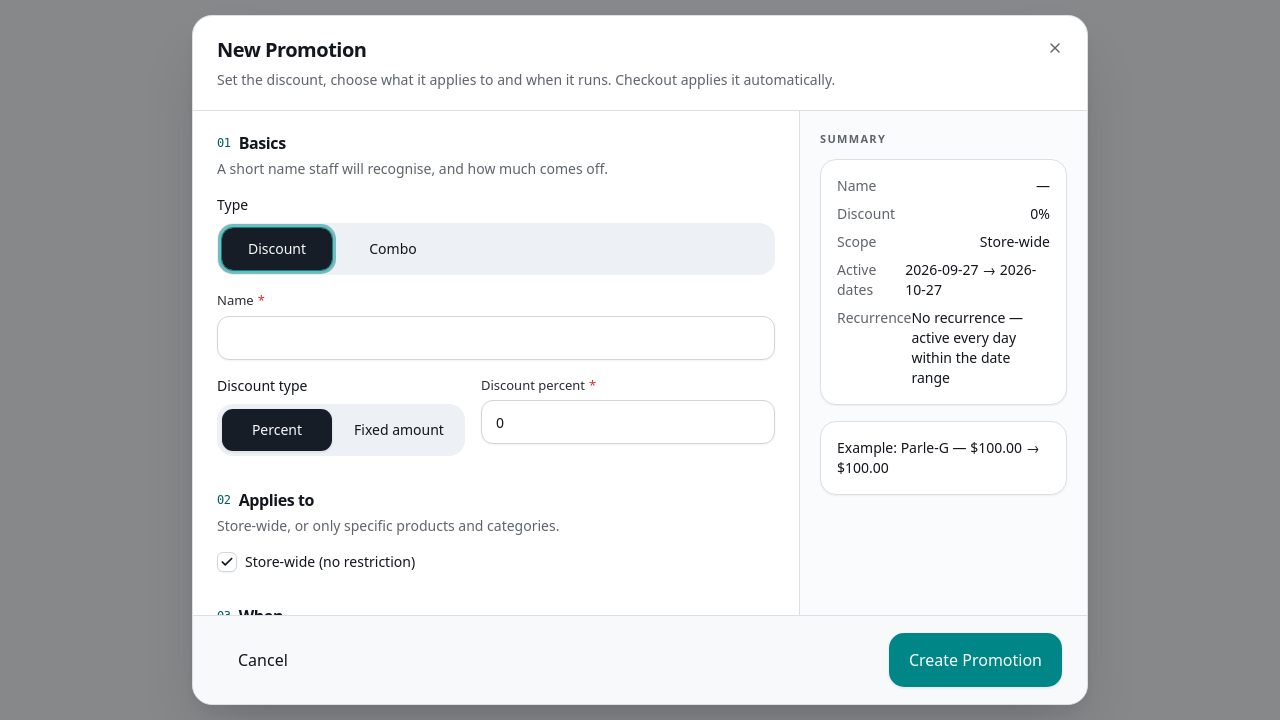
Test case: PromotionDialog › shows the name error and does not save when submitted empty
The width and height of the screenshot is (1280, 720).
Click the button "Create Promotion". click: {"x": 975, "y": 660}
box: x1=888 y1=632 x2=1063 y2=688
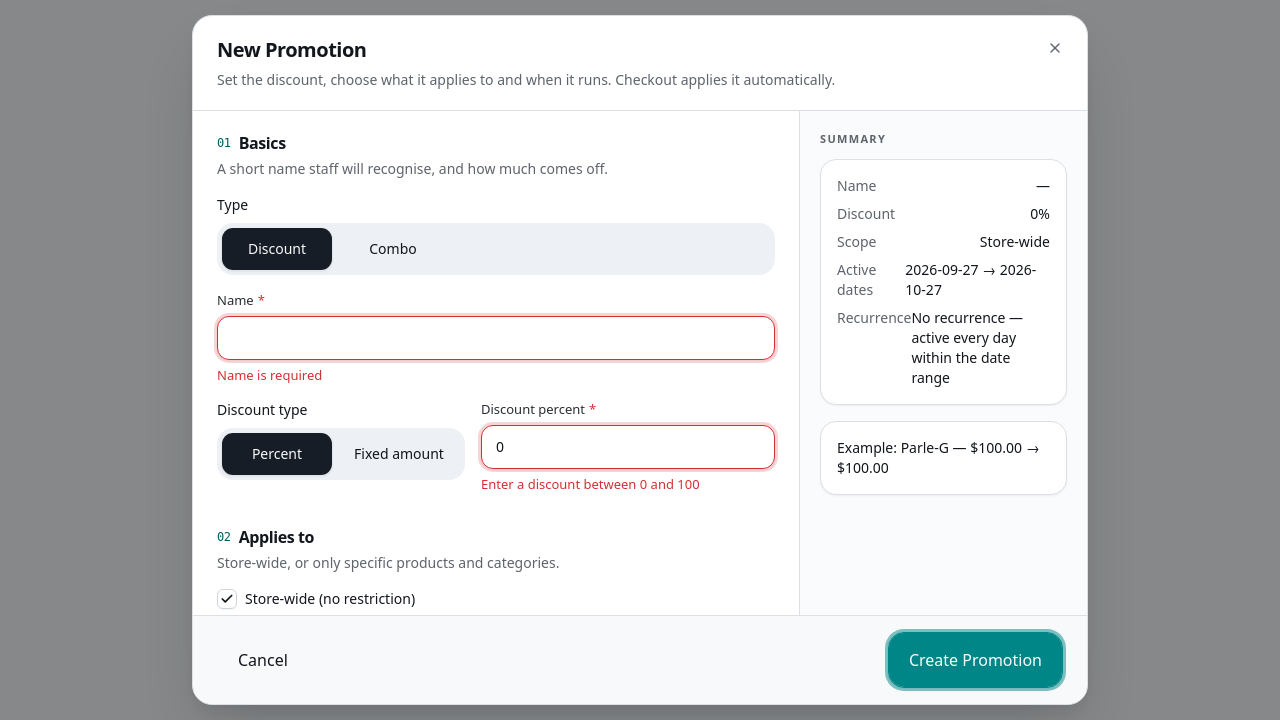
Check: the text "Name is required" is shown, box x1=217 y1=366 x2=322 y2=384
